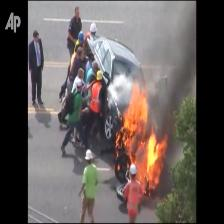fire: (115, 82, 168, 190)
